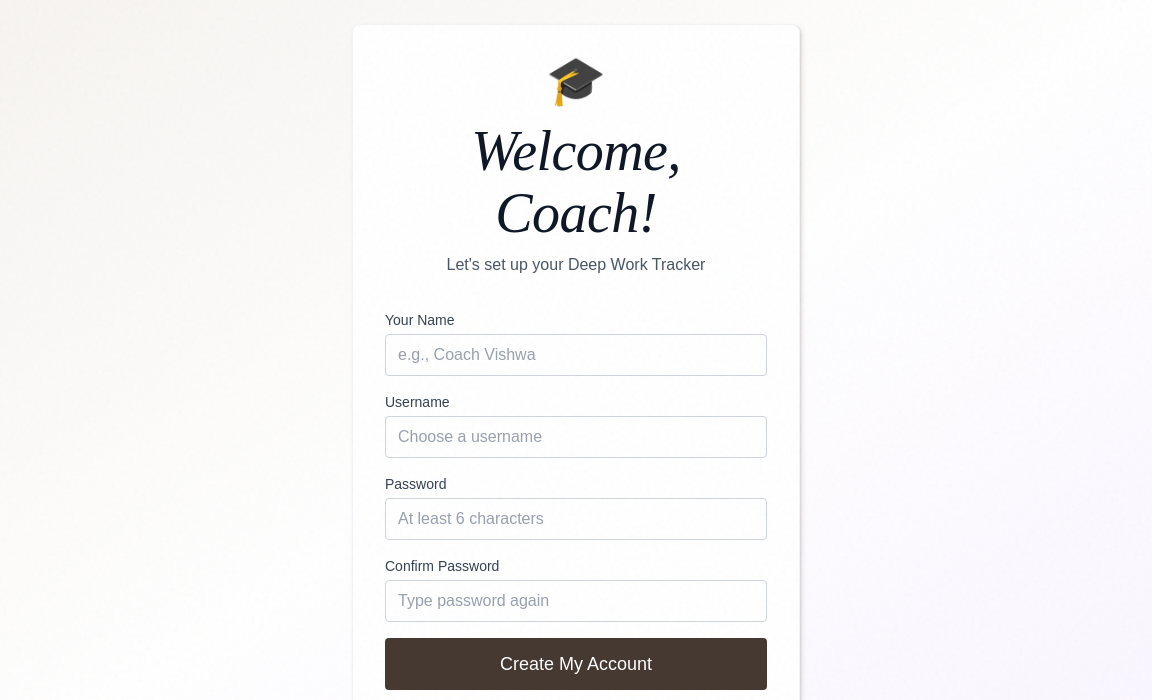
Test case: Integration Tests: User Journeys › Journey 1: First-run Bootstrap › SetupPage shows password mismatch error
Type "Coach" into the field labelled "Your Name" at (576, 355), box [385, 334, 767, 376]
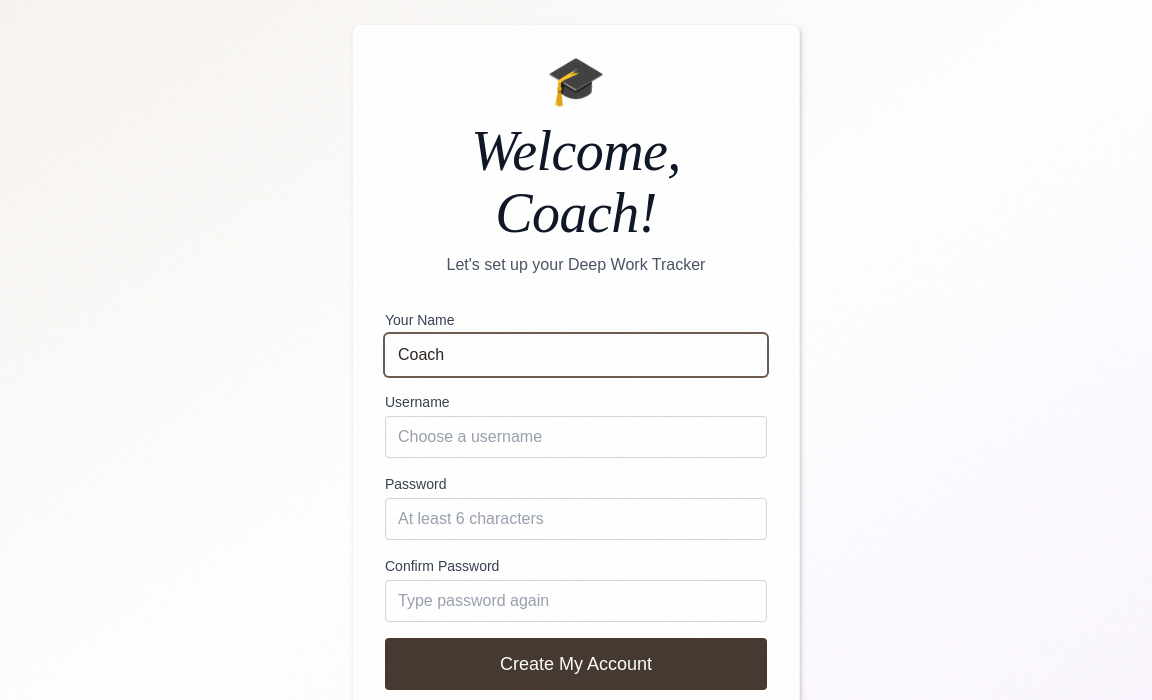
Type "admin" into the field labelled "Username" at (576, 437), box [385, 416, 767, 458]
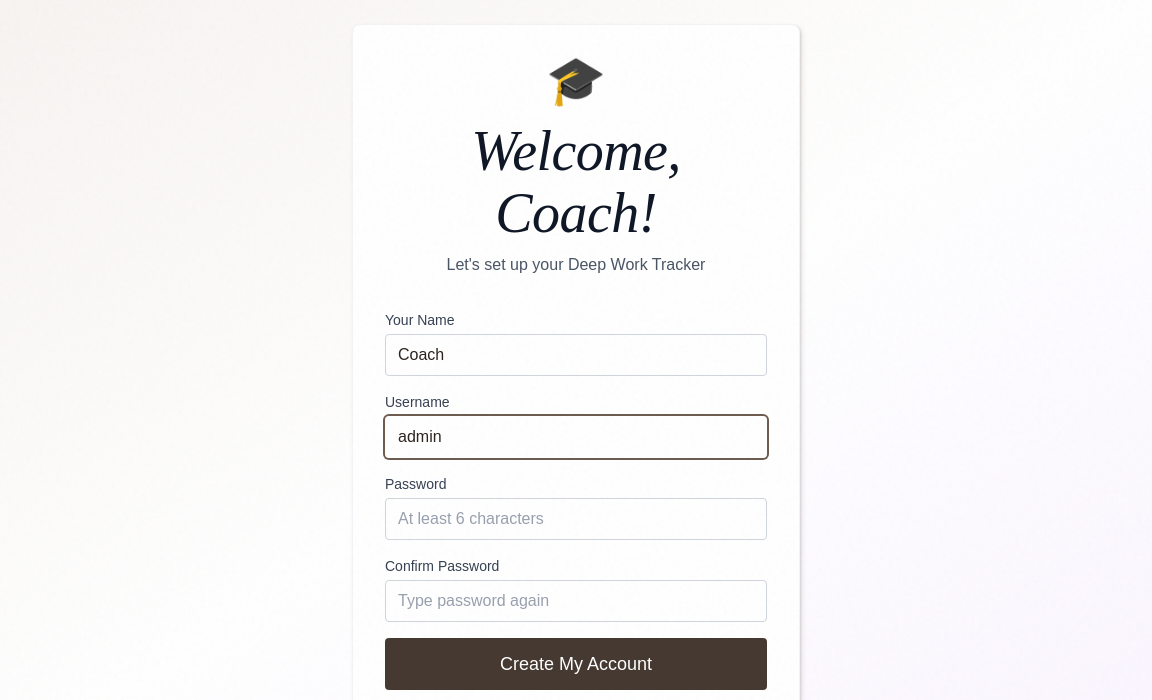
Type "password123" into the password field labelled "Password" at (576, 519), box [385, 498, 767, 540]
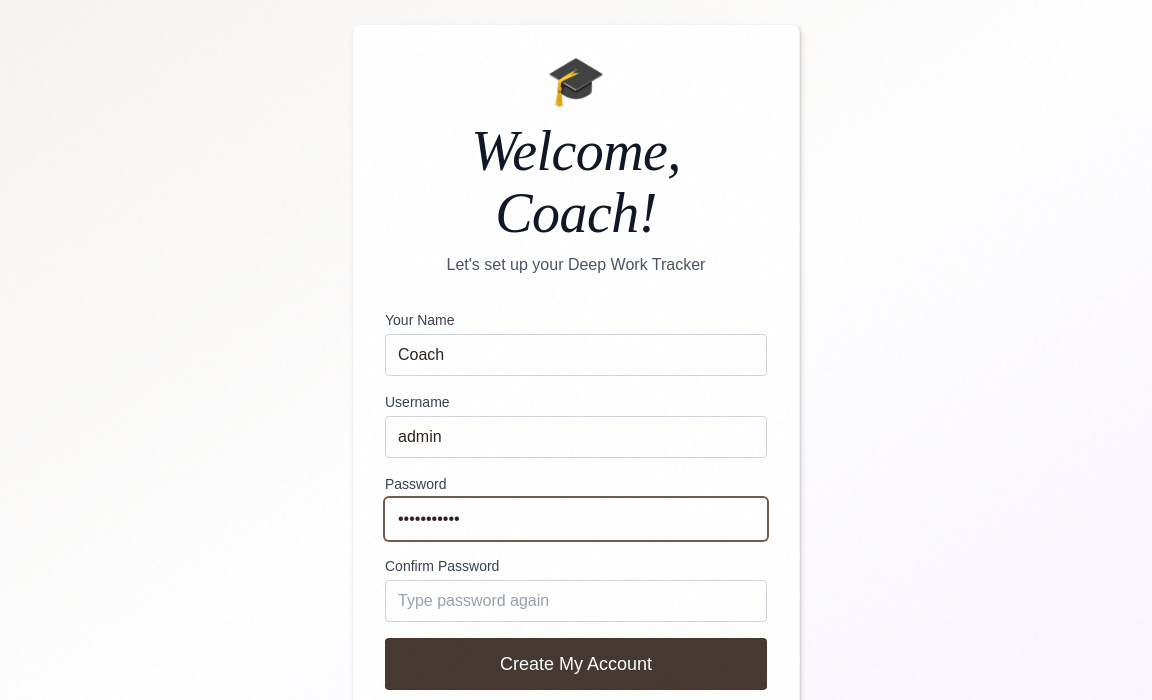
Type "differentpassword" into the password field labelled "Confirm Password" at (576, 601), box [385, 580, 767, 622]
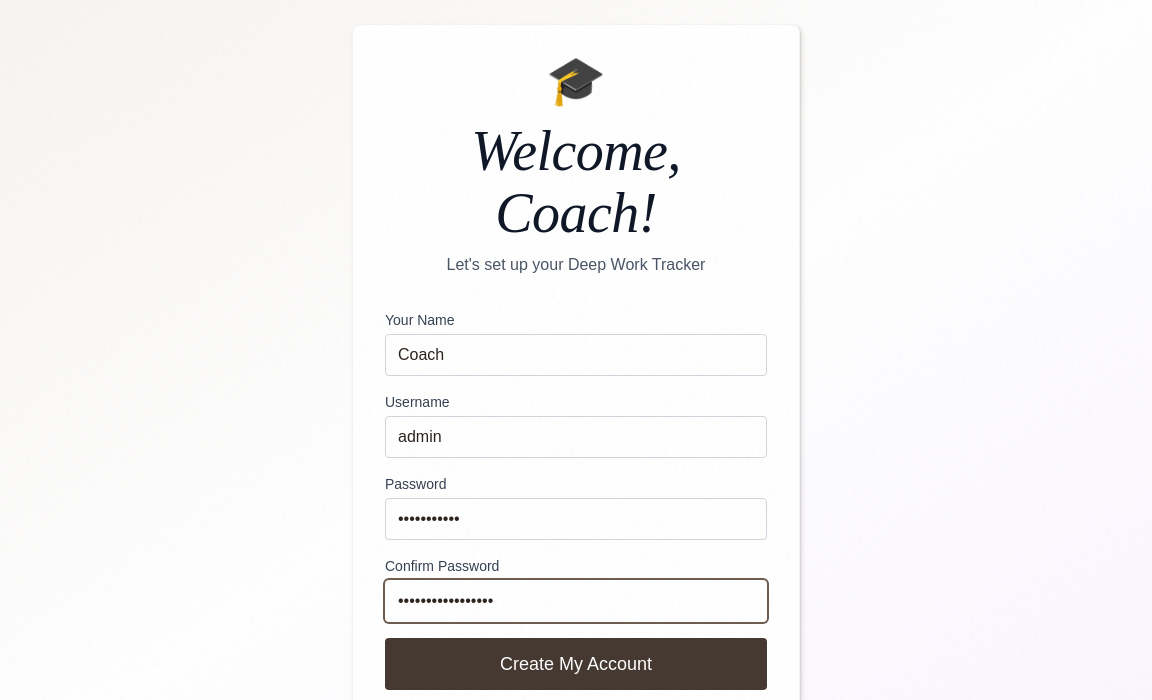
Click the button "Create My Account" at (576, 664), box [385, 638, 767, 690]
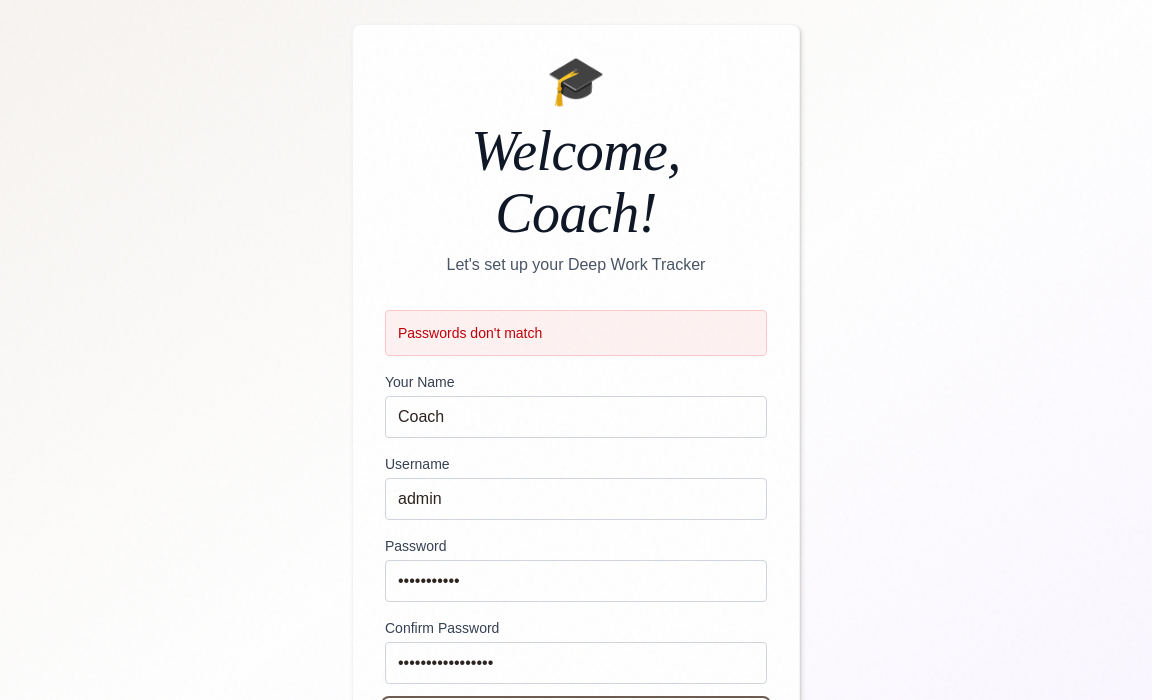
Expected: the text "Passwords don't match" is shown, [385, 310, 767, 356]
